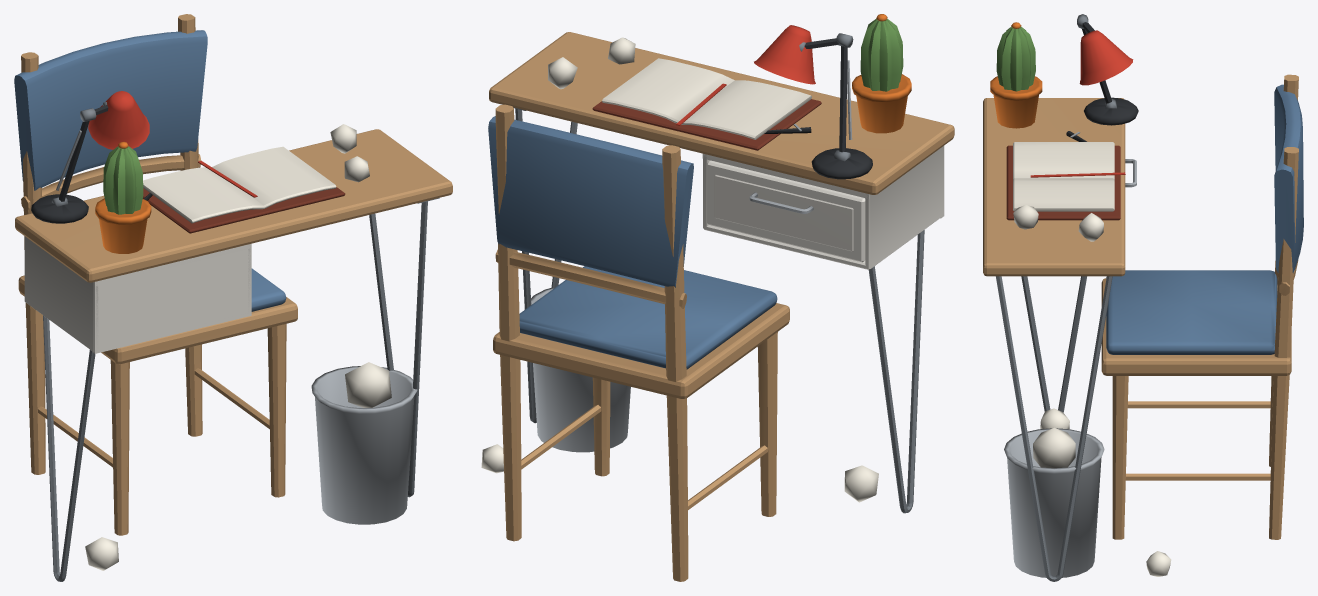
The model's file is grudgeJournal.glb.
3 renders of one model, left to right at view 1: azimuth 30°, elevation 25°; view 2: azimuth 150°, elevation 25°; view 3: azimuth 270°, elevation 25°, orthographic. The views are drawn at different scales.
Visible parts, largest first — view 1: body; view 2: body, drawer; view 3: body.
Boxes of the visible parts, x1,y1,x2,y2 form: body: [14, 14, 452, 581]; body: [481, 14, 954, 581]; drawer: [707, 160, 865, 262]; body: [983, 14, 1303, 581].
Size of the model in its own units: 0.84 by 1 by 0.6759.
